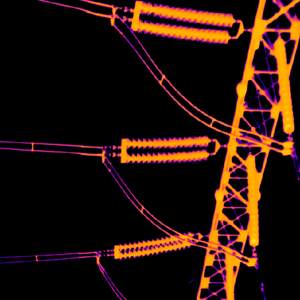insulator: (131, 0, 232, 45), (119, 133, 211, 163), (114, 231, 193, 260), (272, 36, 293, 133), (245, 153, 258, 244)
